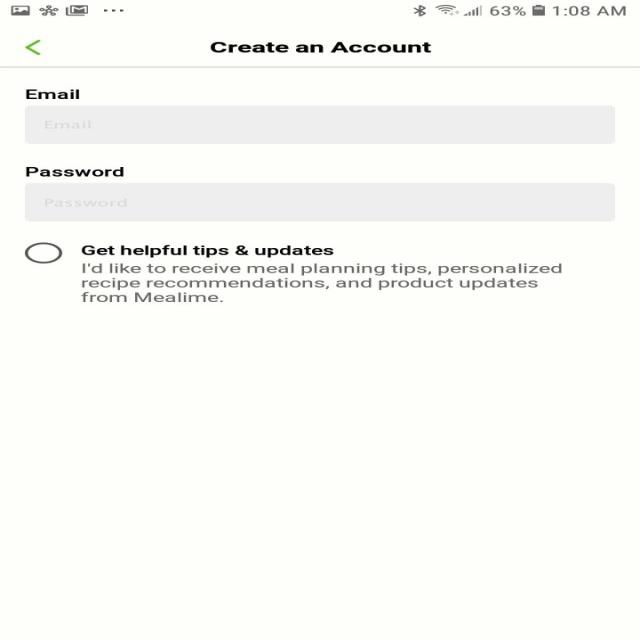EditText: (25, 182, 615, 222), (25, 105, 615, 144)
Icon: (25, 39, 42, 55)
Text: (81, 263, 562, 302), (80, 245, 334, 258), (211, 42, 431, 52), (26, 166, 124, 176), (46, 198, 126, 206), (25, 89, 79, 99), (44, 120, 90, 128)
